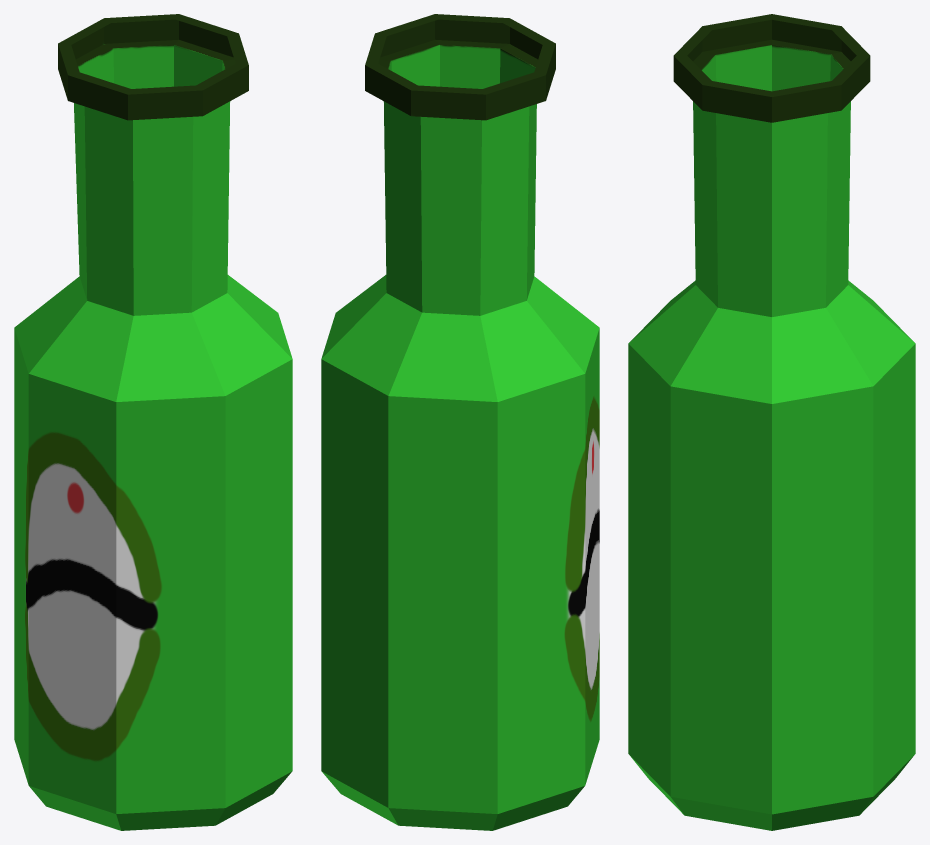
File: Garrafa.fbx
3 views of the same model, side by side, from view 1: azimuth 30°, elevation 25°; view 2: azimuth 150°, elevation 25°; view 3: azimuth 270°, elevation 25° (orthographic).
Visible parts, largest first — view 1: Cylinder; view 2: Cylinder; view 3: Cylinder.
Part boxes in pixels (x1,y1,x2,y2): Cylinder: (14, 14, 292, 830); Cylinder: (321, 14, 599, 830); Cylinder: (628, 14, 915, 830).
Size of the model in its own units: 127 by 352 by 127.
